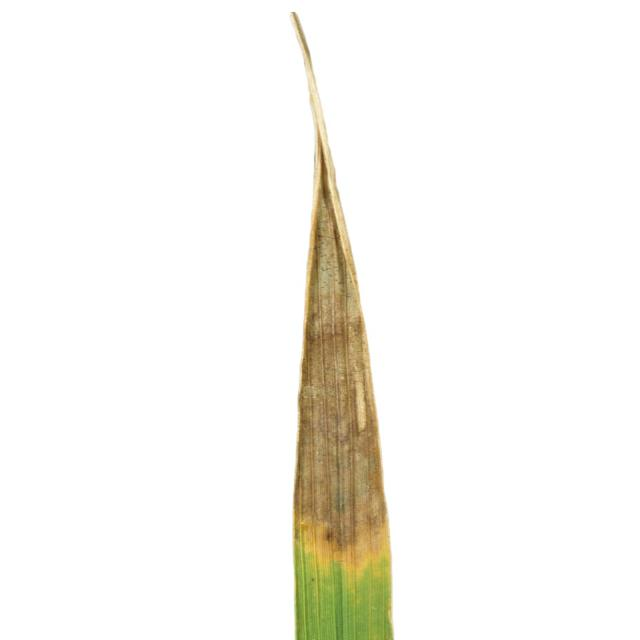Leaf scald: (270, 17, 464, 640)
